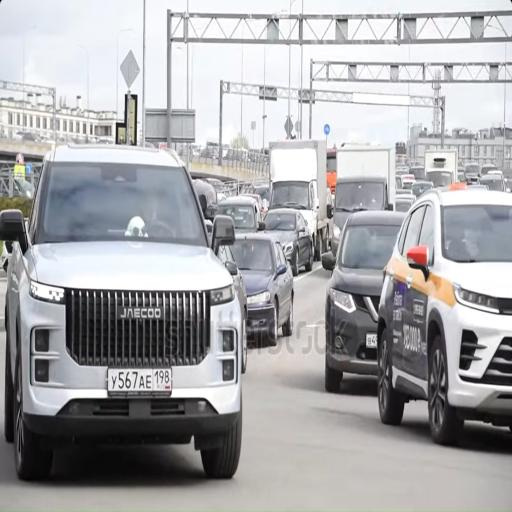License plates: (108, 368, 171, 394), (366, 334, 377, 348)
